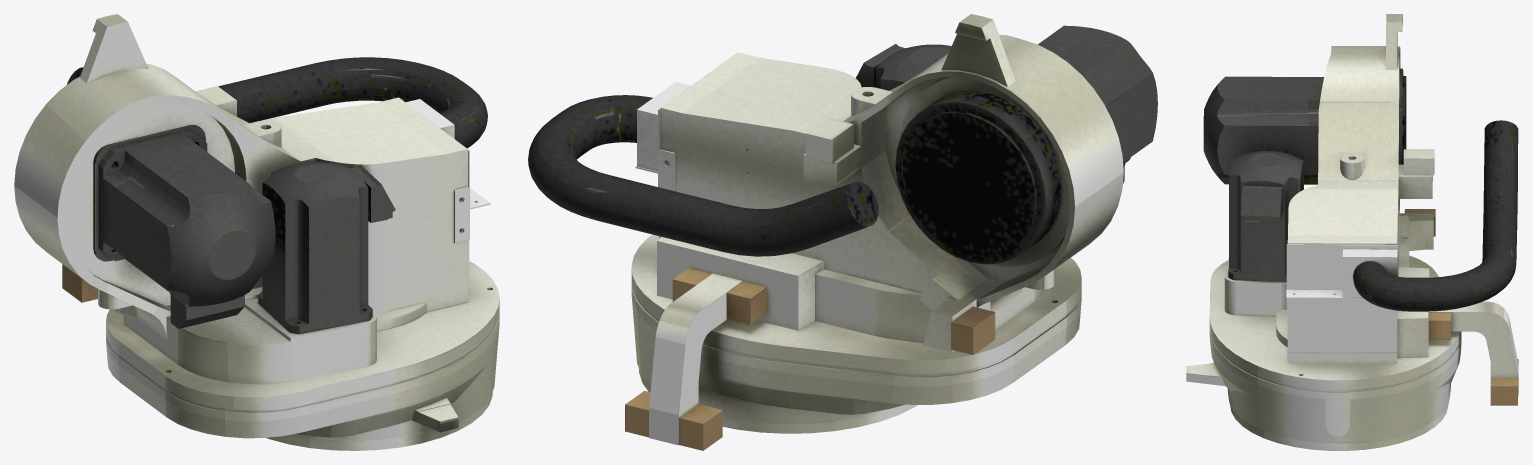
File: robot1_arm0.glb
3 renders of one model, left to right at view 1: azimuth 30°, elevation 25°; view 2: azimuth 150°, elevation 25°; view 3: azimuth 270°, elevation 25°, orthographic. The views are drawn at different scales.
Visible parts, largest first — view 1: Asset3DLoader.sceneRoot; view 2: Asset3DLoader.sceneRoot; view 3: Asset3DLoader.sceneRoot.
Boxes of the visible parts, x1,y1,x2,y2 form: Asset3DLoader.sceneRoot: [14, 14, 499, 450]; Asset3DLoader.sceneRoot: [528, 14, 1157, 450]; Asset3DLoader.sceneRoot: [1186, 14, 1518, 450].
Size of the model in its own units: 686 by 552 by 537.
Materials: 1 (1 with a texture image).
